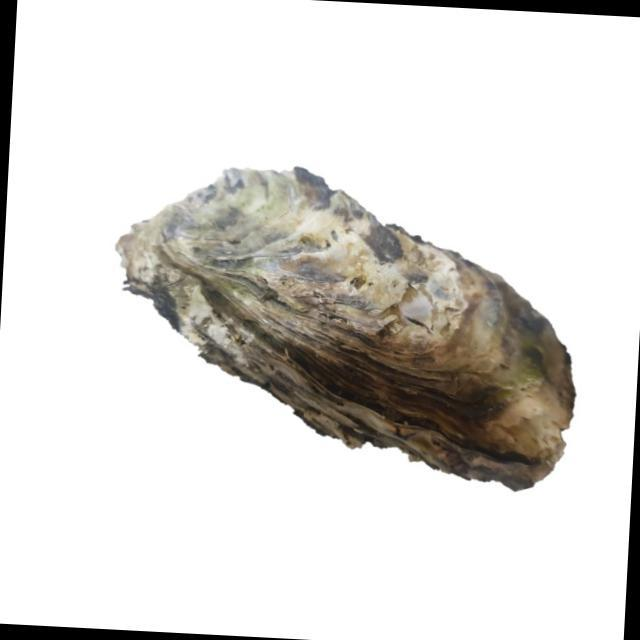Oyster- Indeterminate: (115, 167, 578, 494)
